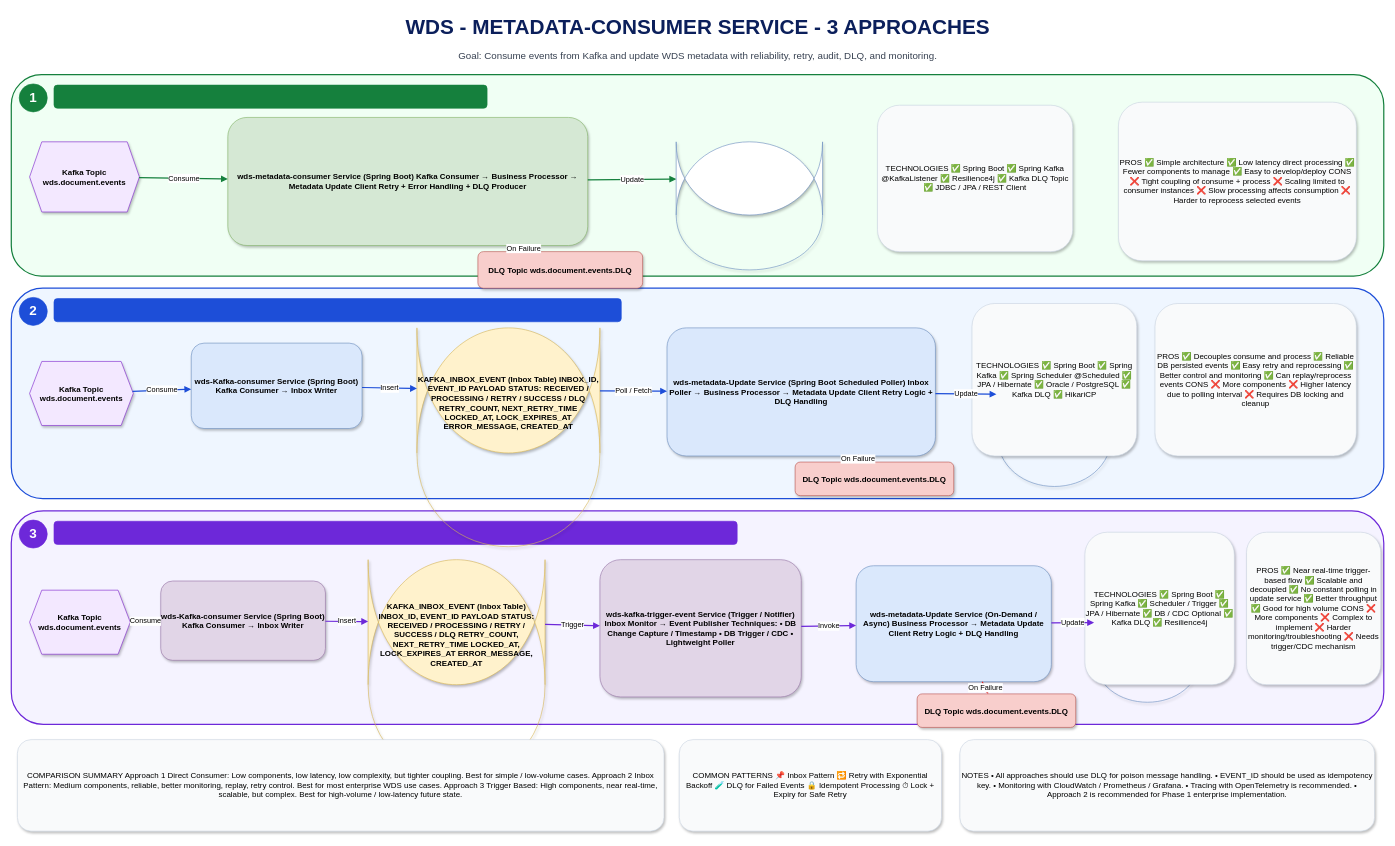
Image size: 1395x846. Some labels were removed from this diagram. Here are the shapes that lost their labels. From the top down, the centre of each, then its label:
At pixel 270 96: "APPROACH 1 : wds-metadata-consumer (Direct Consumer)".
At pixel 749 179: "Metadata Systems WDS DB / External Systems".
At pixel 337 310: "APPROACH 2 : wds-Kafka-consumer + wds-metadata-Update (Inbox Pattern)".
At pixel 395 532: "APPROACH 3 : wds-Kafka-consumer + wds-kafka-trigger-event + wds-metadata-Update".
